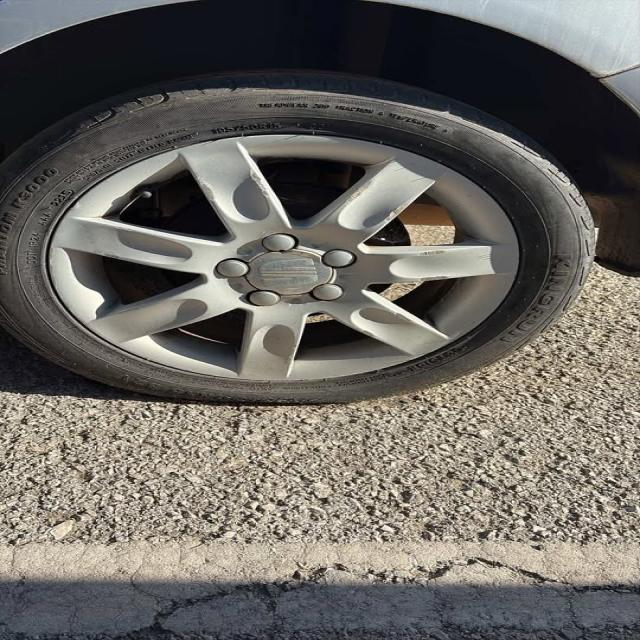jante: (47, 134, 522, 382)
parafuso: (262, 234, 296, 253), (217, 259, 249, 278), (324, 250, 356, 268), (250, 290, 279, 308), (314, 284, 342, 301)
roda: (0, 68, 596, 404)
